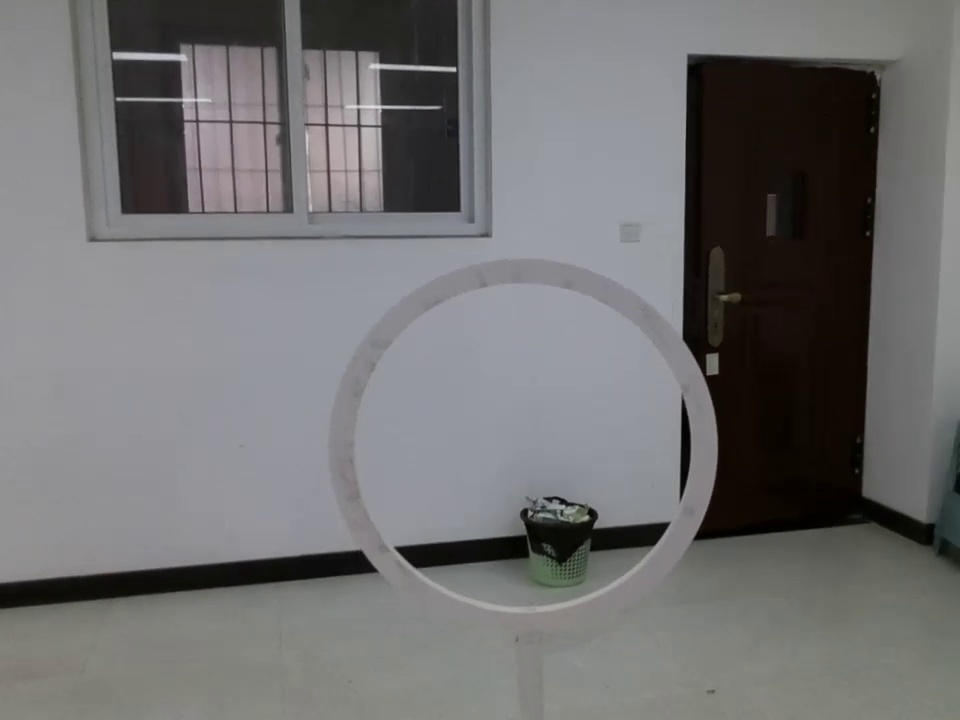quan: (335, 256, 735, 635)
